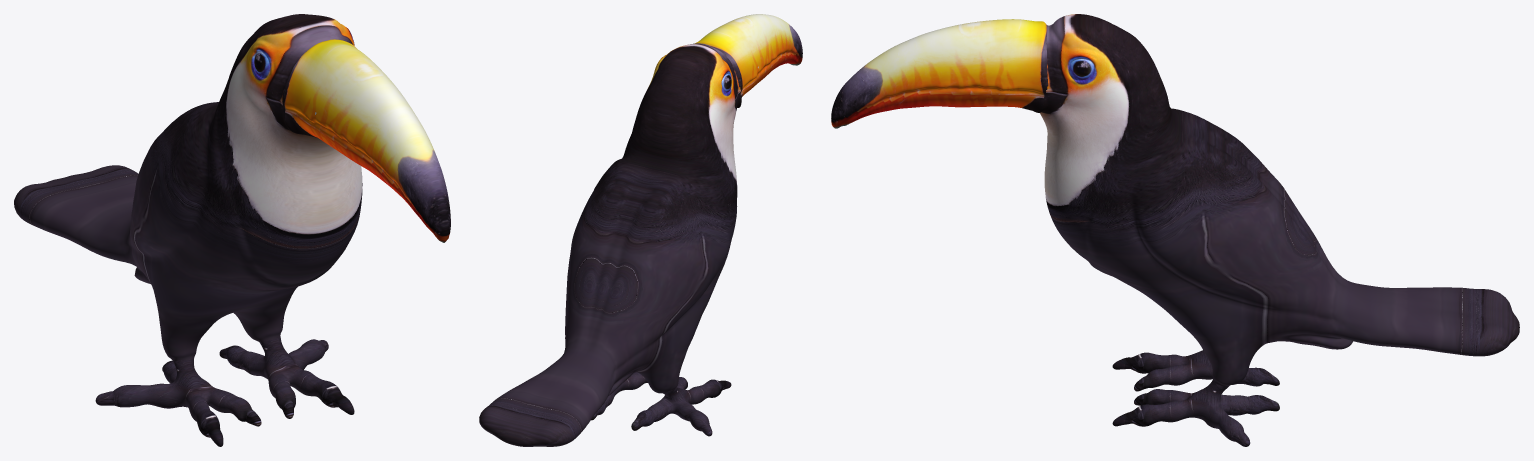
Rendered from toucan.gltf.
3 renders of one model, left to right at view 1: azimuth 30°, elevation 25°; view 2: azimuth 150°, elevation 25°; view 3: azimuth 270°, elevation 25°, orthographic. The views are drawn at different scales.
Parts seen in each view (by area): view 1: Node1; view 2: Node1; view 3: Node1.
Part boxes in pixels (<box>): Node1: <box>14,14,450,446</box>; Node1: <box>479,14,802,446</box>; Node1: <box>831,14,1519,446</box>.
Size of the model in its own units: 1.68 by 2.96 by 4.88.
1 material, 1 textured.
